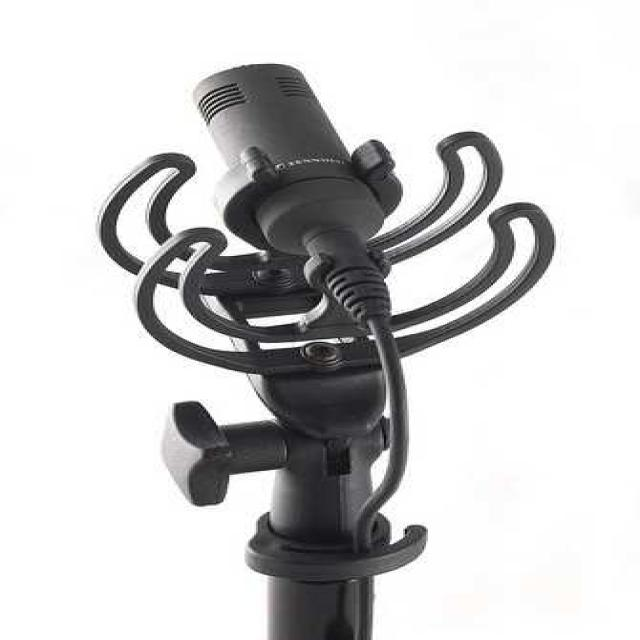microphone: (195, 63, 403, 318)
